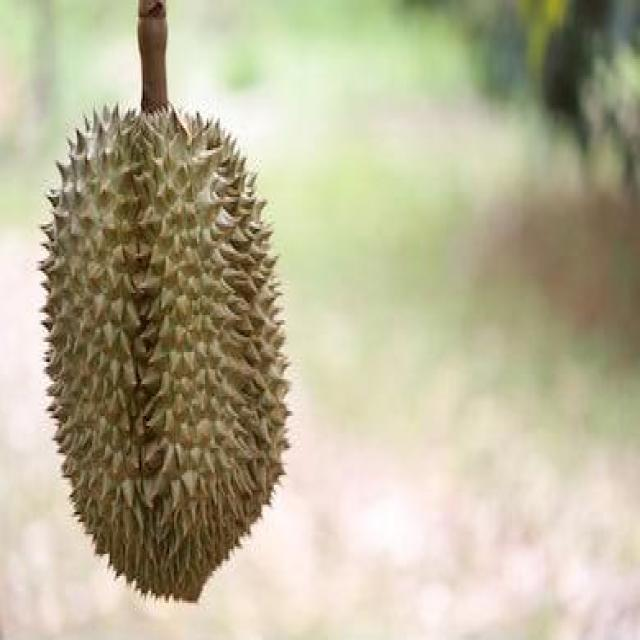mature: (41, 109, 288, 601)
